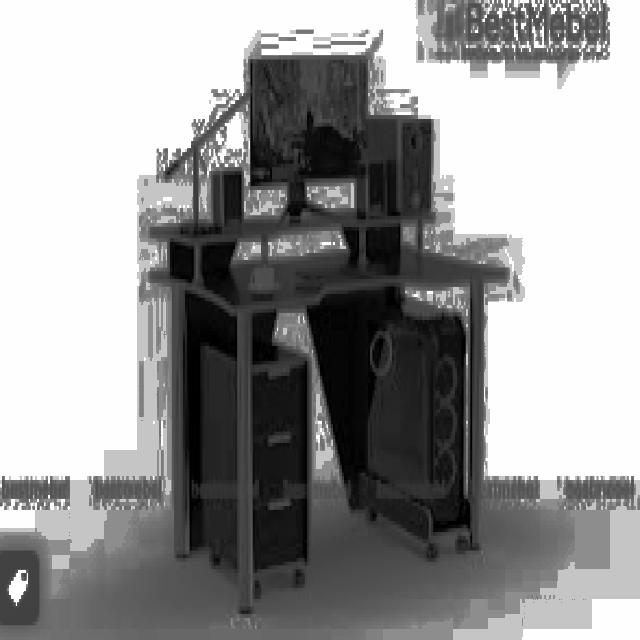table: (148, 208, 505, 610)
